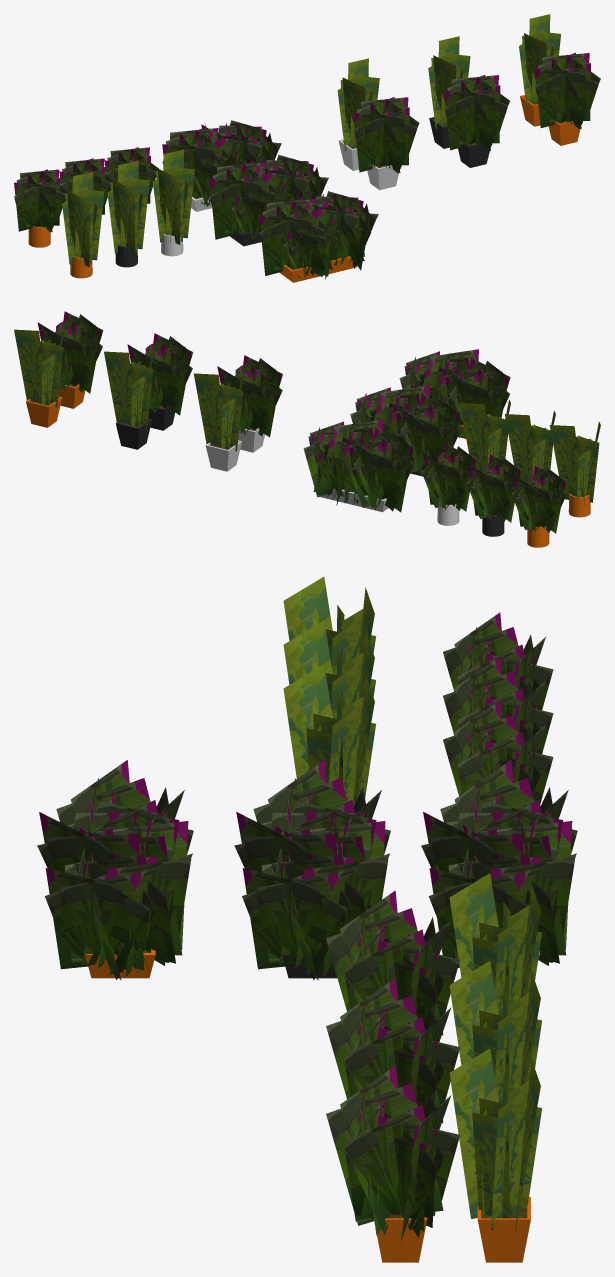
File: Plants_kit.fbx
3 renders of one model, top to bottom at view 1: azimuth 30°, elevation 25°; view 2: azimuth 150°, elevation 25°; view 3: azimuth 270°, elevation 25°, orthographic. The views are drawn at different scales.
Visible parts, largest first — view 1: Pot_8, Pot_7, Pot_3, Pot_13, Pot_14, Pot_12, Pot_11, Pot_10, Pot_9, Pot_2, Pot_5, Pot_6 (+3 smaller); view 2: Pot_3, Pot_7, Pot_8, Pot_6, Pot_4, Pot_5, Pot_13, Pot_12, Pot_14, Pot_11, Pot_2, Pot (+3 smaller); view 3: Pot_8, Pot_7, Pot_3, Pot_14, Pot_6, Pot_13, Pot_12, Pot_9, Pot_4, Pot_5, Pot, Pot_2 (+3 smaller).
Part boxes in pixels (left/top/right/bottom): Pot_8: left=259, top=191, right=378, bottom=282; Pot_7: left=209, top=154, right=328, bottom=246; Pot_3: left=162, top=120, right=281, bottom=211; Pot_13: left=444, top=75, right=509, bottom=167; Pot_14: left=535, top=52, right=600, bottom=145; Pot_12: left=353, top=97, right=419, bottom=190; Pot_11: left=62, top=172, right=104, bottom=278; Pot_10: left=107, top=160, right=149, bottom=267; Pot_9: left=152, top=149, right=194, bottom=256; Pot_2: left=14, top=169, right=68, bottom=247; Pot_5: left=428, top=36, right=470, bottom=148; Pot_6: left=519, top=14, right=560, bottom=126; Pot_3: left=303, top=419, right=414, bottom=512; Pot_7: left=350, top=385, right=461, bottom=476; Pot_8: left=399, top=349, right=510, bottom=438; Pot_6: left=14, top=326, right=65, bottom=427; Pot_4: left=193, top=370, right=244, bottom=471; Pot_5: left=104, top=348, right=154, bottom=449; Pot_13: left=127, top=333, right=193, bottom=430; Pot_12: left=217, top=355, right=282, bottom=452; Pot_14: left=37, top=311, right=103, bottom=408; Pot_11: left=549, top=421, right=600, bottom=517; Pot_2: left=511, top=466, right=566, bottom=547; Pot: left=421, top=444, right=476, bottom=525; Pot_8: left=37, top=760, right=193, bottom=980; Pot_7: left=234, top=759, right=390, bottom=980; Pot_3: left=421, top=760, right=577, bottom=967; Pot_14: left=326, top=1066, right=459, bottom=1262; Pot_6: left=449, top=1048, right=541, bottom=1262; Pot_13: left=326, top=978, right=459, bottom=1122; Pot_12: left=326, top=890, right=459, bottom=1035; Pot_9: left=283, top=664, right=375, bottom=806; Pot_4: left=449, top=873, right=541, bottom=1015; Pot_5: left=449, top=961, right=541, bottom=1103; Pot: left=443, top=700, right=553, bottom=804; Pot_2: left=443, top=612, right=553, bottom=710.
Size of the model in its own units: 1224 by 207 by 521.
Materials: 1 (1 with a texture image).
